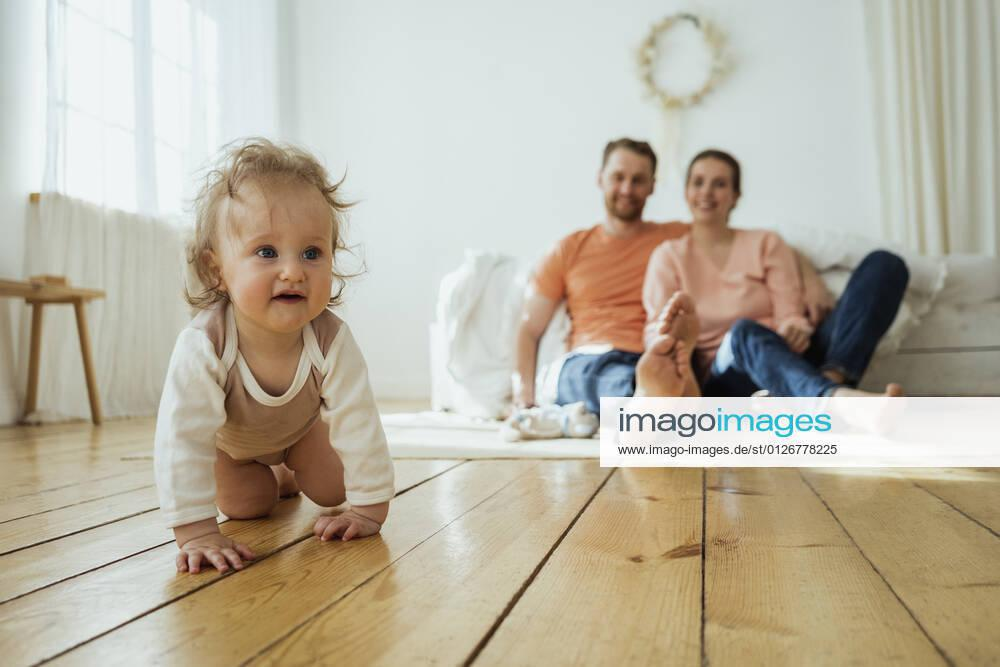child: (127, 133, 399, 580)
